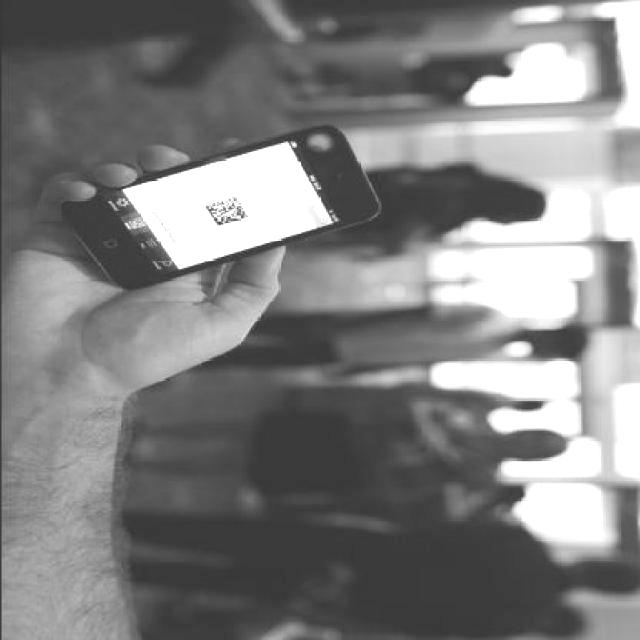fake: (52, 123, 382, 289)
